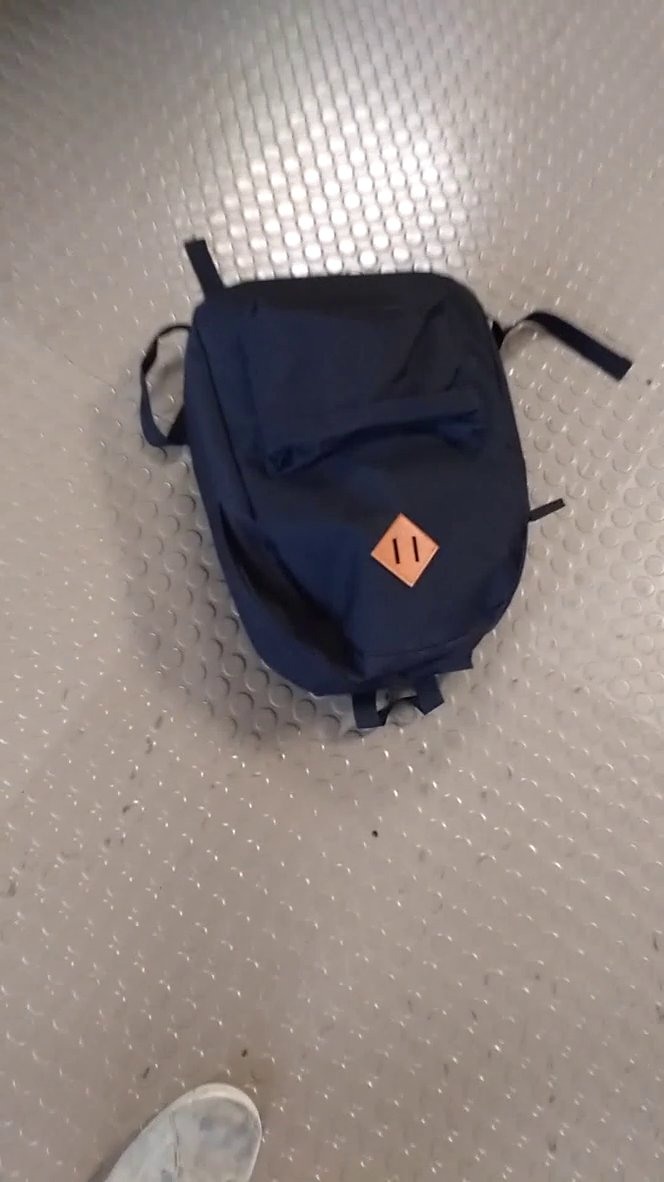bag: (136, 217, 640, 740)
